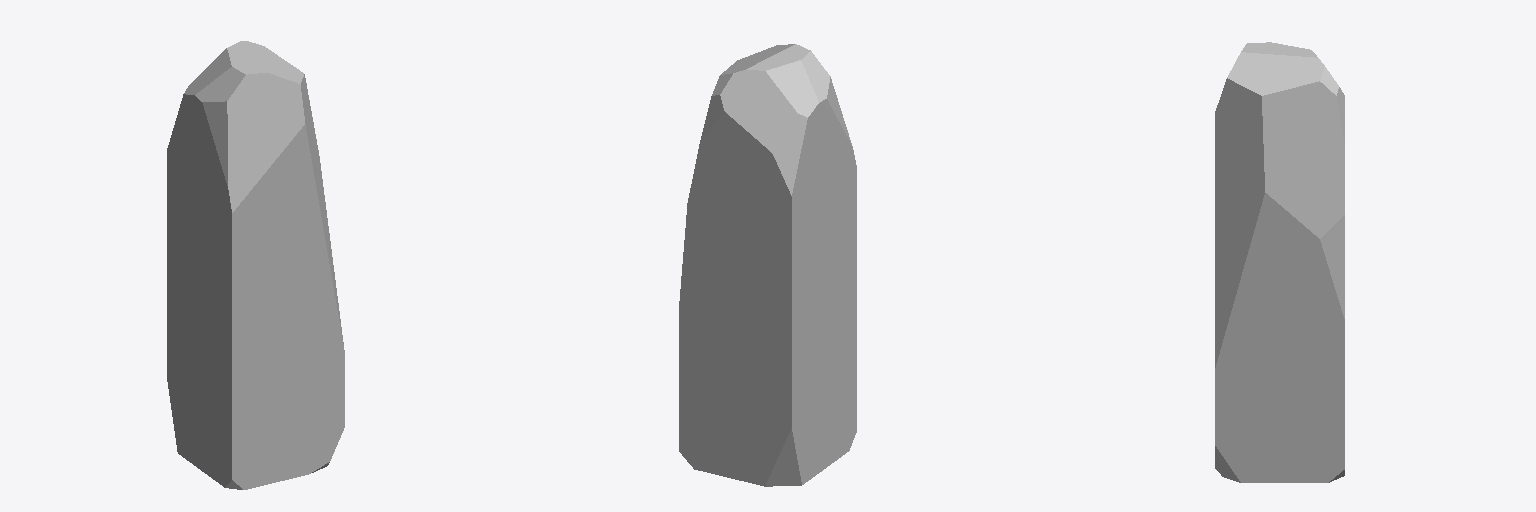
Rendered from RockPillar0.obj.
3 views of the same model, side by side, from view 1: azimuth 30°, elevation 25°; view 2: azimuth 150°, elevation 25°; view 3: azimuth 270°, elevation 25° (orthographic).
Visible parts, largest first — view 1: Cube_008; view 2: Cube_008; view 3: Cube_008.
Part boxes in pixels (left/top/right/bottom): Cube_008: left=167, top=41, right=344, bottom=489; Cube_008: left=679, top=44, right=856, bottom=486; Cube_008: left=1215, top=42, right=1344, bottom=482.
Bounding box in the file's own units: 78.74 × 267 × 78.74.